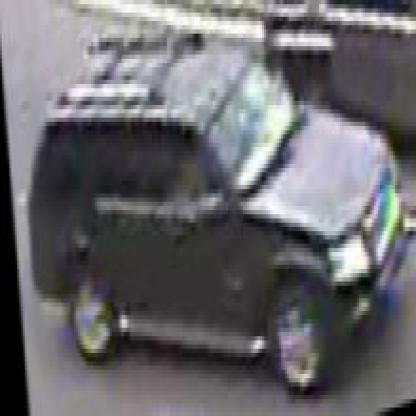car: (32, 43, 408, 392)
